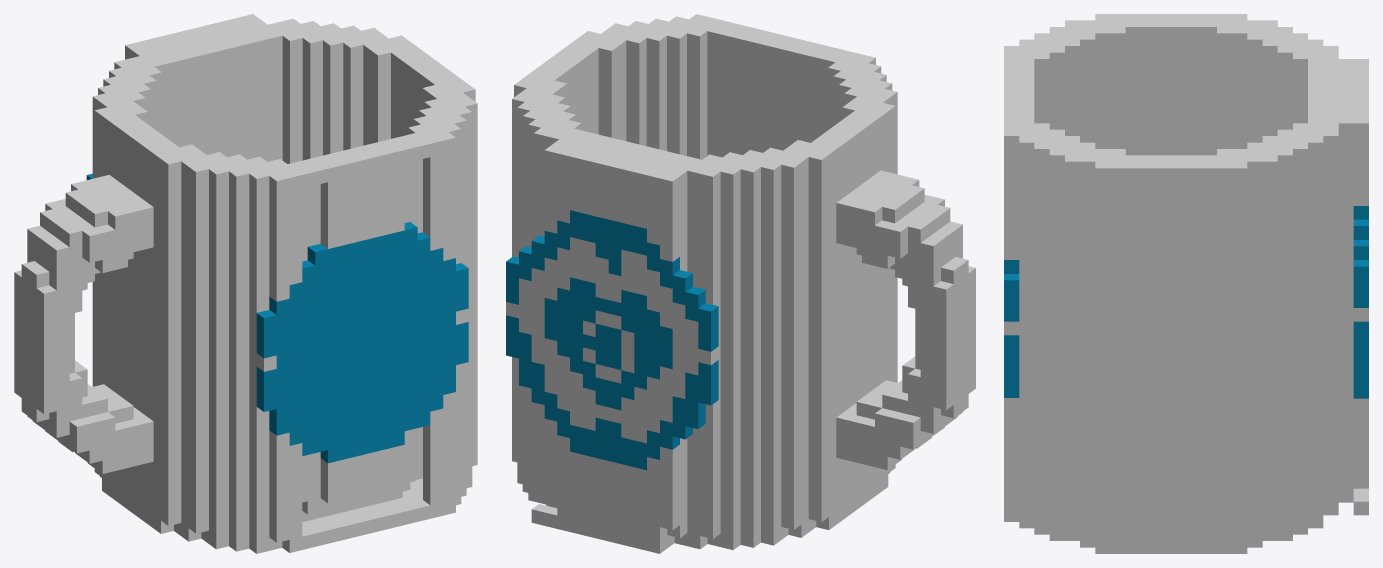
The picture shows the model from 3 angles, left to right: view 1: azimuth 30°, elevation 25°; view 2: azimuth 150°, elevation 25°; view 3: azimuth 270°, elevation 25°; orthographic projection. The views are drawn at different scales.
Size of the model in its own units: 1.6 by 1.4 by 1.2.
